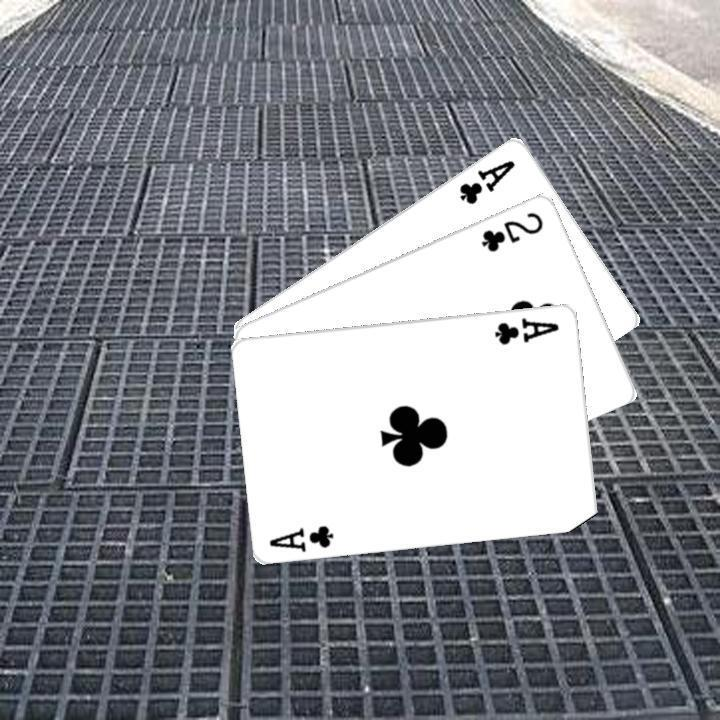2: (477, 207, 546, 254)
A: (454, 155, 518, 206), (491, 312, 561, 346), (265, 520, 337, 553)
